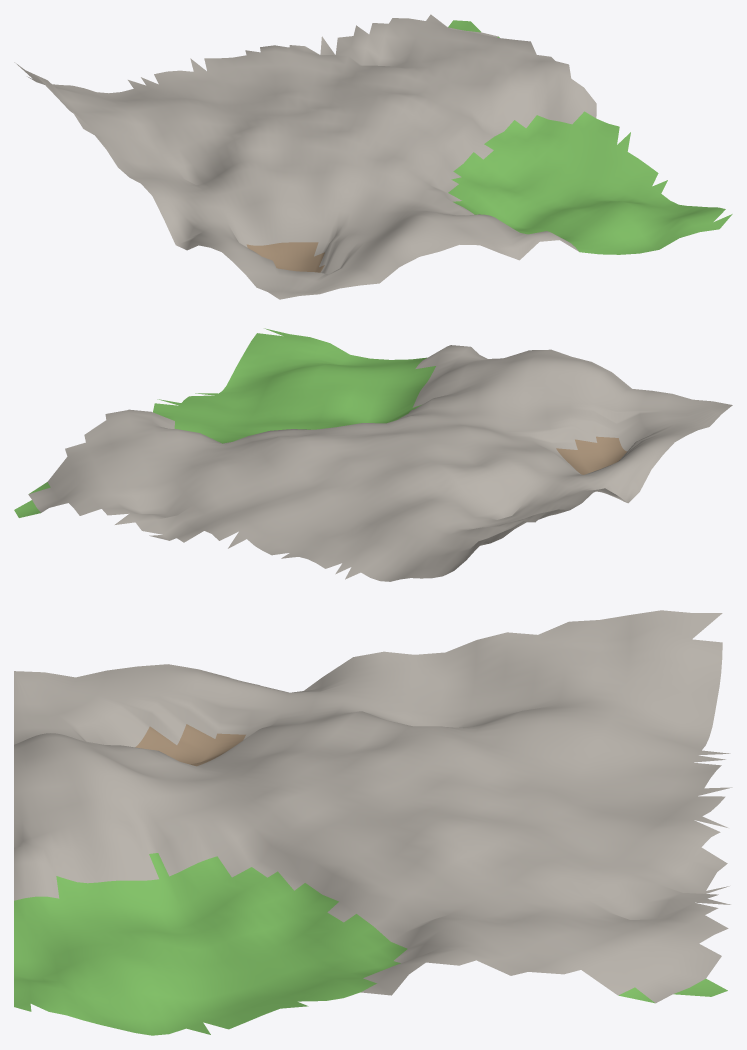
The model's file is flagship_terrain_122.glb.
3 renders of one model, top to bottom at view 1: azimuth 30°, elevation 25°; view 2: azimuth 150°, elevation 25°; view 3: azimuth 270°, elevation 25°, orthographic. The views are drawn at different scales.
Parts seen in each view (by area): view 1: Terrain_122; view 2: Terrain_122; view 3: Terrain_122.
Part boxes in pixels (left/top/right/bottom): Terrain_122: left=14, top=14, right=732, bottom=299; Terrain_122: left=14, top=328, right=732, bottom=581; Terrain_122: left=14, top=610, right=732, bottom=1035.
Bounding box in the file's own units: 30.84 × 6.28 × 31.1.
